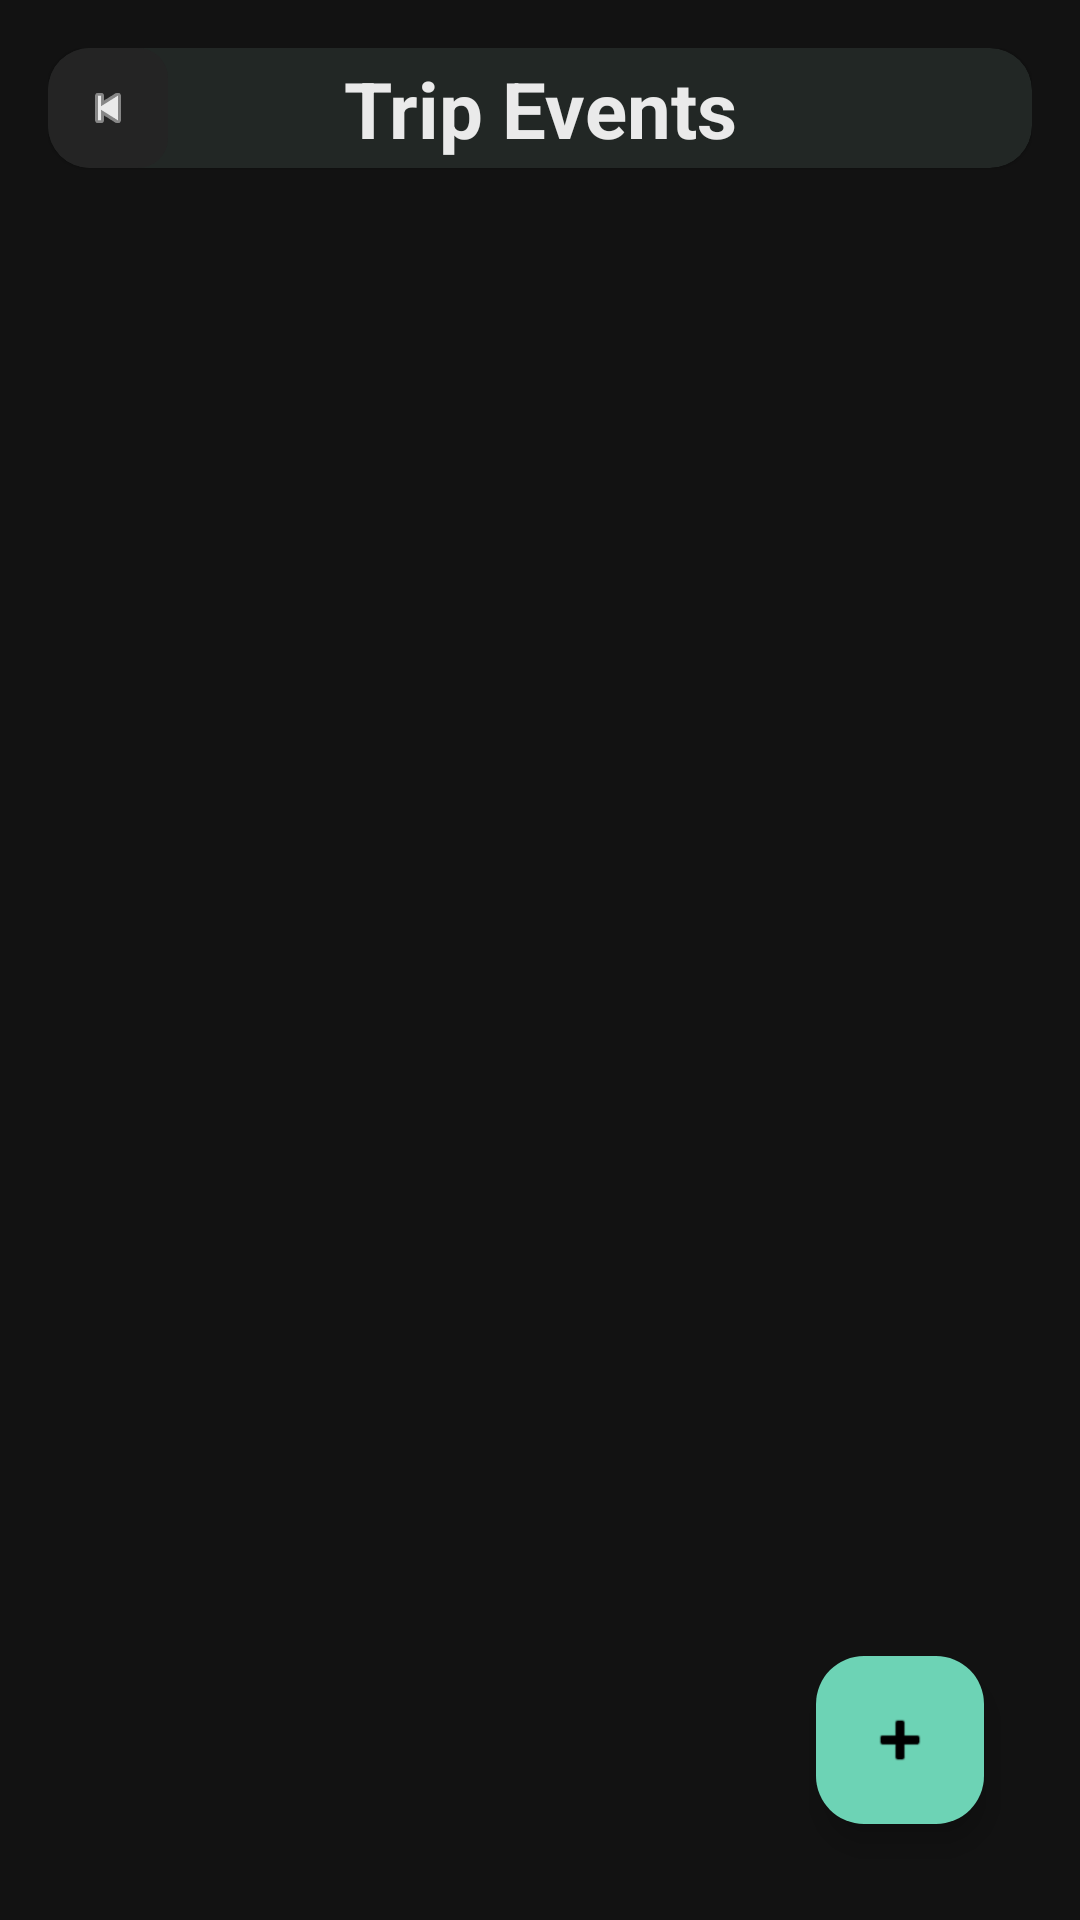

Icons on this 1080 x 1920 Android screen, each with its box as [x1, y1, x2, y2]:
Add event: [816, 1656, 984, 1824]
previous: [95, 93, 121, 123]
